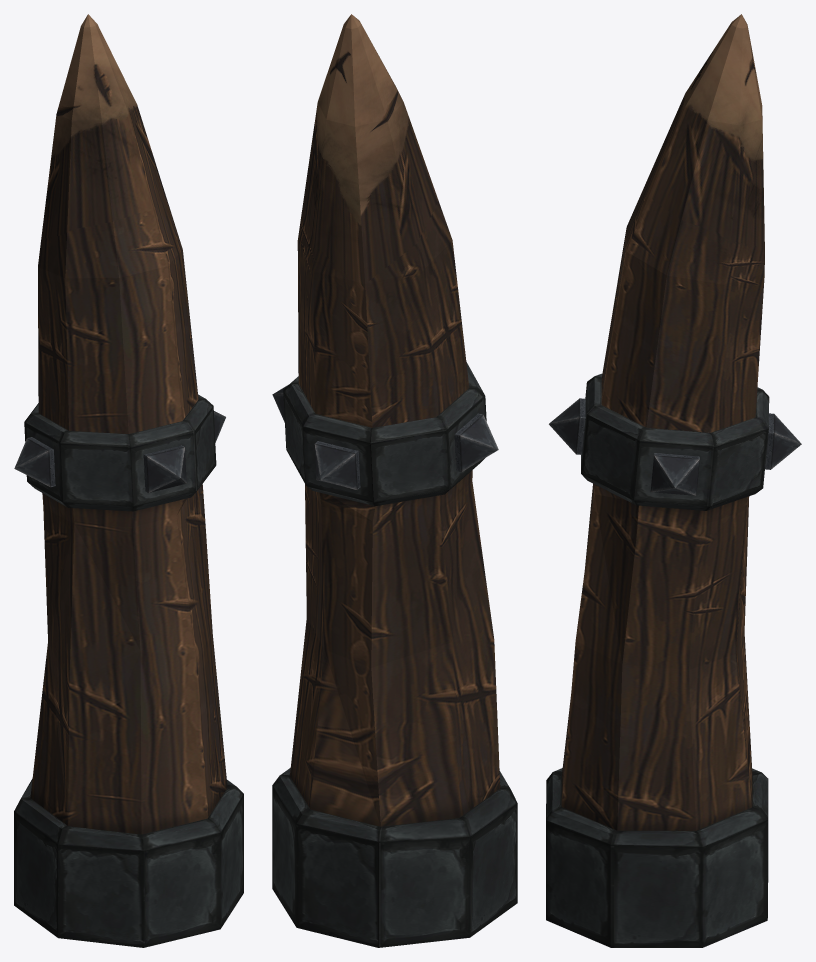
Rendered from spikepole1_fbx.FBX.
3 views of the same model, side by side, from view 1: azimuth 30°, elevation 25°; view 2: azimuth 150°, elevation 25°; view 3: azimuth 270°, elevation 25° (orthographic). The views are drawn at different scales.
Visible parts, largest first — view 1: pole1; view 2: pole1; view 3: pole1.
Boxes of the visible parts, box(x1,y1,x2,y2) form: pole1: box(14, 14, 243, 947); pole1: box(272, 14, 517, 947); pole1: box(546, 14, 801, 947).
Size of the model in its own units: 22.96 by 88.55 by 23.16.
